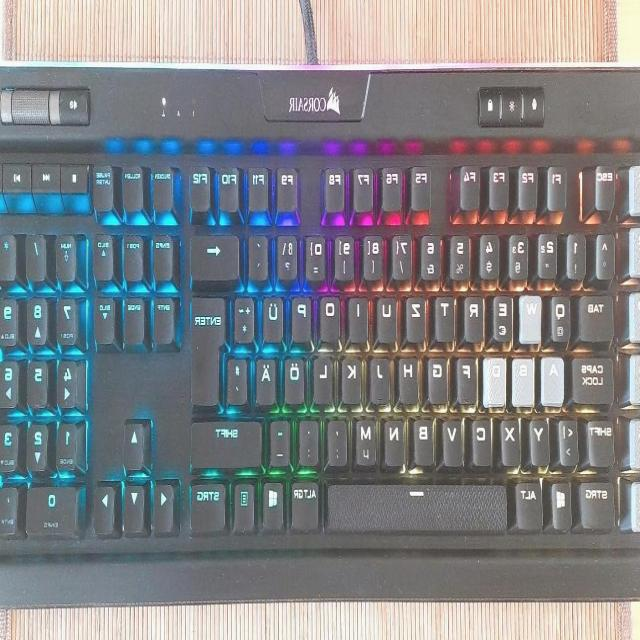0: (306, 231, 328, 281)
1: (566, 230, 587, 280)
2: (537, 227, 559, 279)
3: (509, 228, 531, 280)
4: (481, 228, 501, 278)
5: (450, 235, 472, 285)
6: (420, 230, 442, 280)
7: (393, 230, 414, 278)
8: (363, 234, 384, 284)
9: (335, 231, 356, 281)
a: (542, 351, 566, 403)
accent: (250, 232, 270, 280)
ae: (256, 353, 278, 405)
alt-left: (516, 475, 544, 527)
altgr-right: (292, 474, 322, 528)
b: (414, 413, 436, 463)
c: (473, 413, 493, 463)
caret: (595, 232, 616, 280)
comma: (328, 414, 349, 466)
d: (484, 353, 507, 405)
del: (192, 231, 242, 281)
e: (494, 290, 514, 340)
enter: (191, 292, 229, 406)
f: (458, 352, 478, 402)
g: (429, 352, 449, 402)
h: (399, 352, 420, 402)
hash: (228, 353, 250, 403)
i: (349, 292, 369, 340)
j: (371, 352, 392, 402)
k: (343, 352, 364, 404)
keyboard: (0, 53, 640, 618)
l: (315, 350, 335, 404)
less: (560, 415, 580, 465)
m: (356, 413, 378, 467)
minus: (270, 415, 292, 465)
n: (383, 414, 406, 466)
o: (320, 291, 342, 341)
oe: (285, 352, 307, 404)
p: (293, 292, 313, 342)
plus: (235, 292, 257, 342)
point: (300, 414, 321, 464)
q: (552, 291, 572, 341)
r: (465, 292, 485, 340)
s: (513, 353, 536, 405)
shift-left: (586, 417, 618, 467)
shift-lock: (572, 350, 615, 404)
shift-right: (192, 416, 265, 466)
space: (326, 478, 510, 536)
ss: (278, 231, 300, 281)
strg-left: (578, 477, 616, 527)
strg-right: (188, 481, 227, 533)
t: (437, 291, 456, 339)
tab: (578, 289, 614, 341)
u: (378, 291, 399, 343)
ue: (263, 293, 285, 341)
v: (444, 416, 464, 464)
w: (520, 289, 543, 343)
x: (501, 414, 521, 466)
y: (531, 415, 550, 465)
z: (407, 292, 427, 340)
